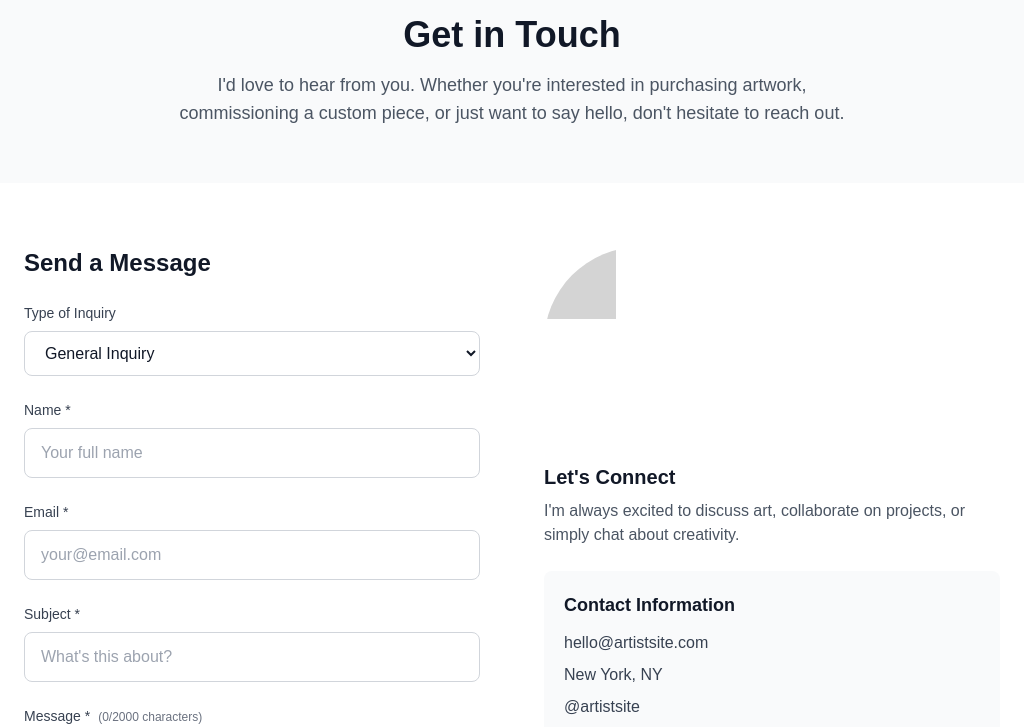
Scenario: Contact Page › Form Submission › submits form successfully with valid data
The width and height of the screenshot is (1024, 727).
Select "Purchase Artwork" in the dropdown labelled "Type of Inquiry" at (252, 354), box [24,331,480,376]
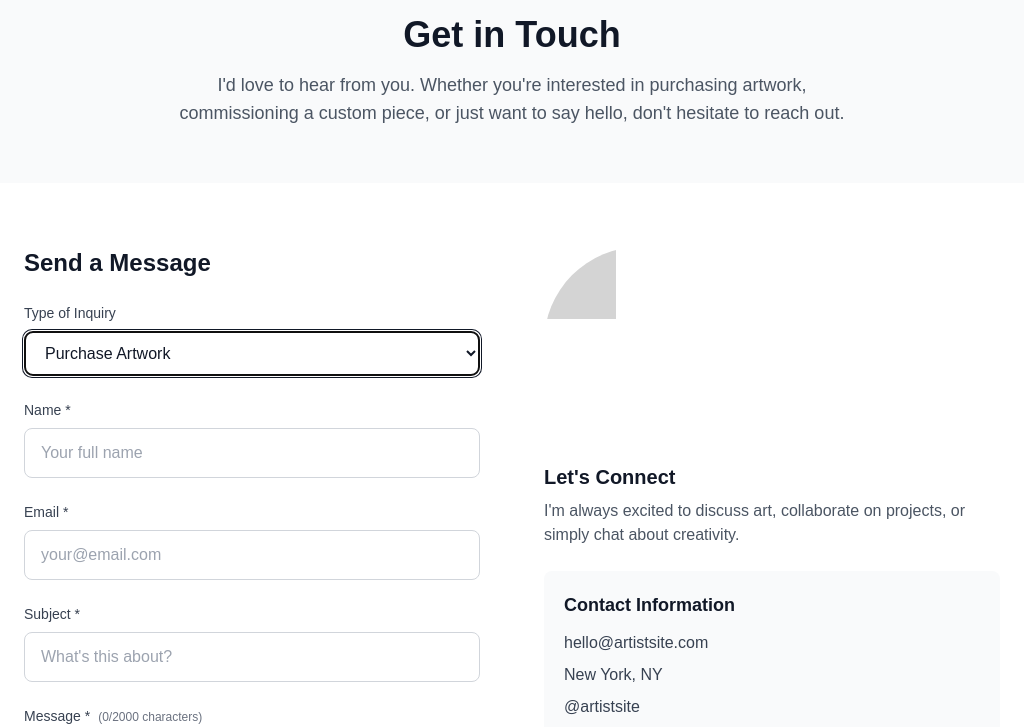
Type "John Doe" into the field labelled "Name *" at (252, 453), box [24,428,480,478]
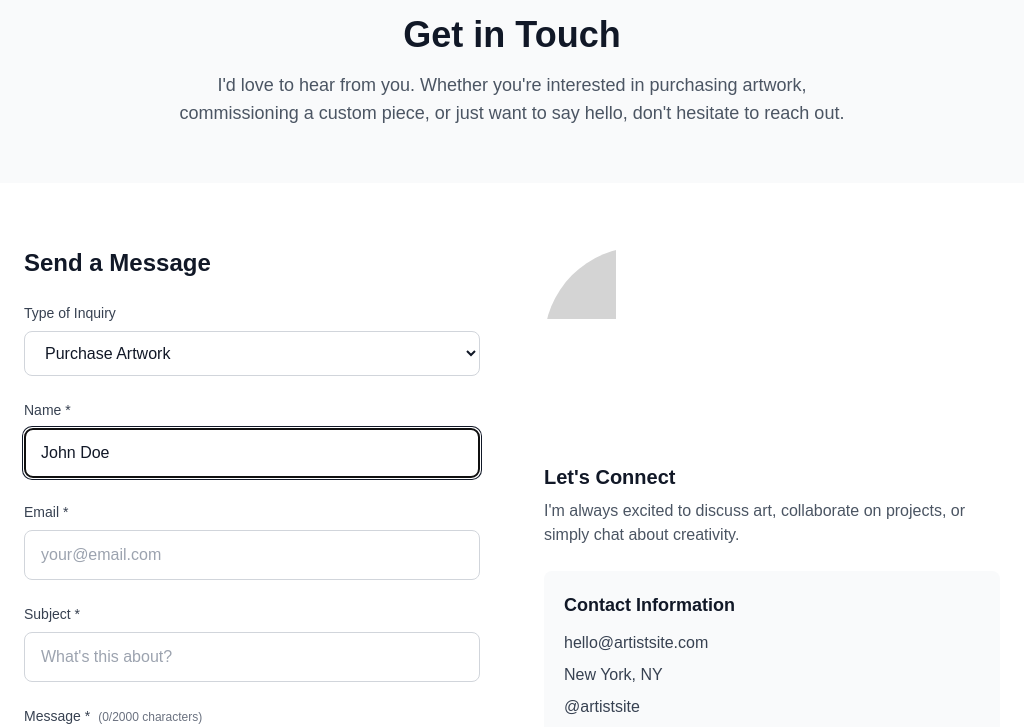
Type "john@example.com" into the field labelled "Email *" at (252, 555), box [24,530,480,580]
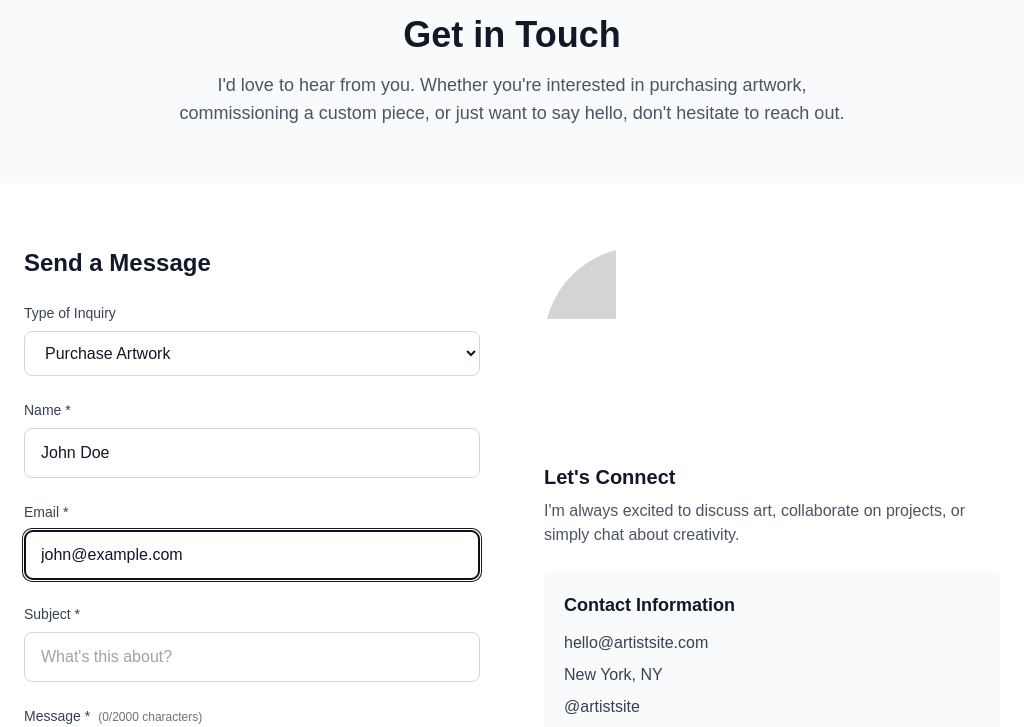
Type "Interest in artwork" into the field labelled "Subject *" at (252, 657), box [24,632,480,682]
(page scrolled)
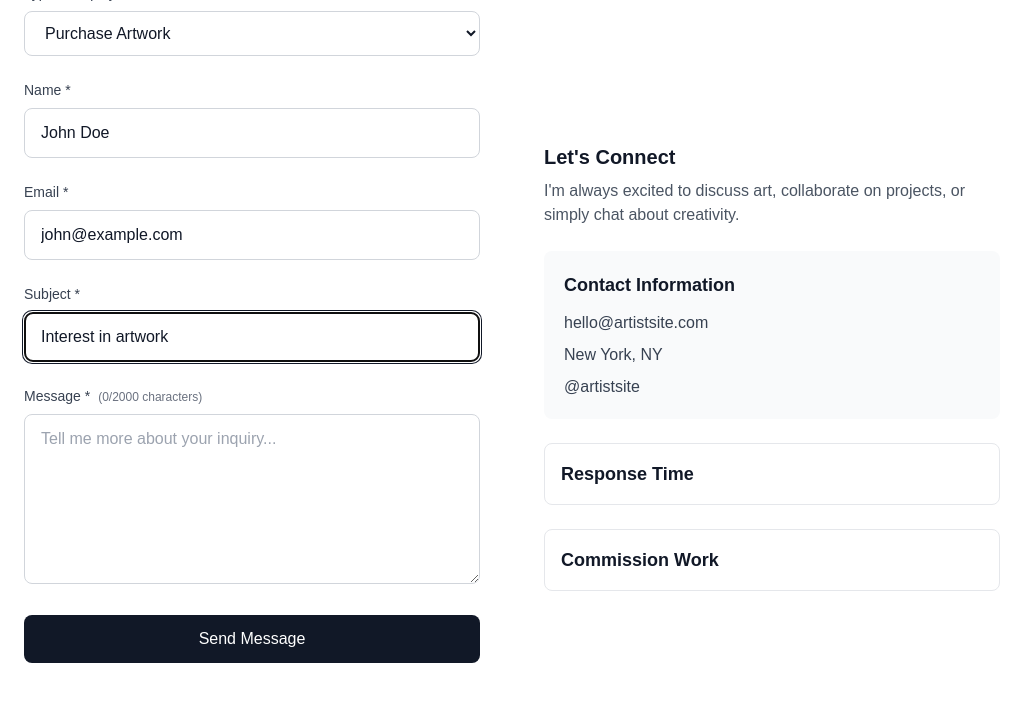
Type "I am interested in purchasing one of your paintings. Could you please send me more information about available pieces?" into the text box labelled "Message *(0/2000 characters)" at (252, 499), box [24,414,480,584]
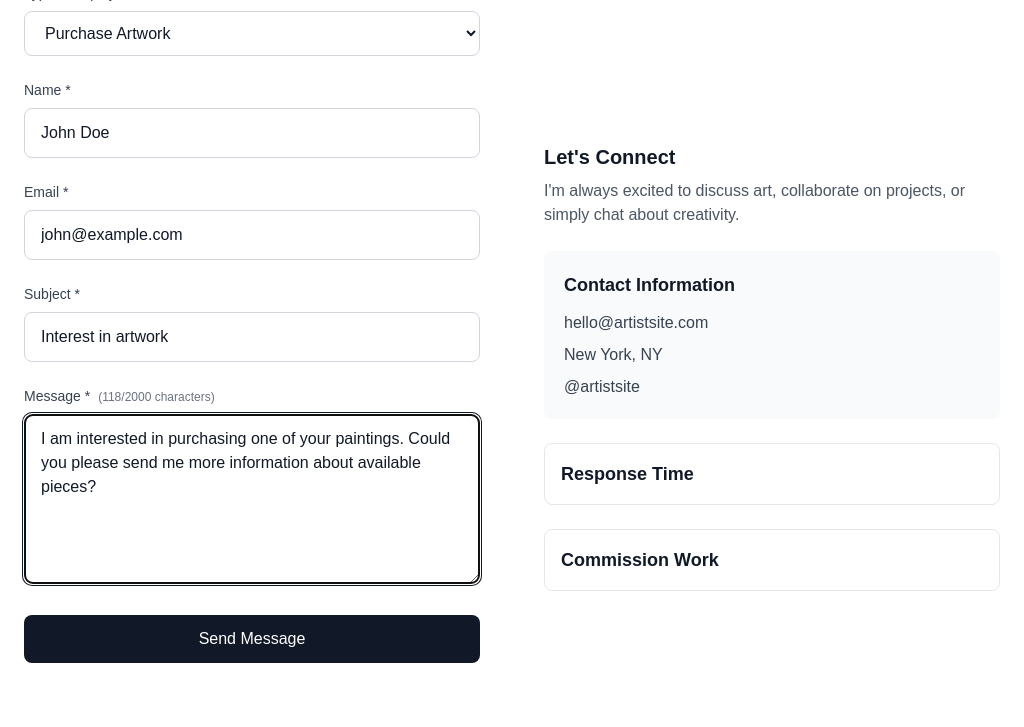
Click the button "Send Message" at (252, 639), box [24,615,480,663]
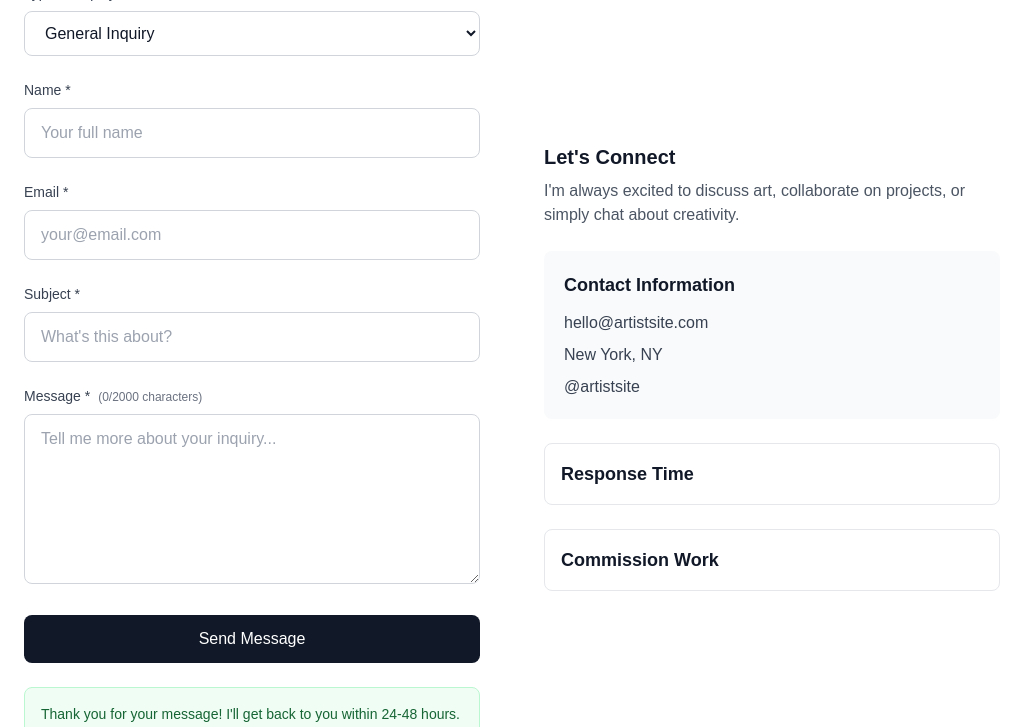
Check: the text "Thank you for your message" is shown, box [41,706,460,722]
